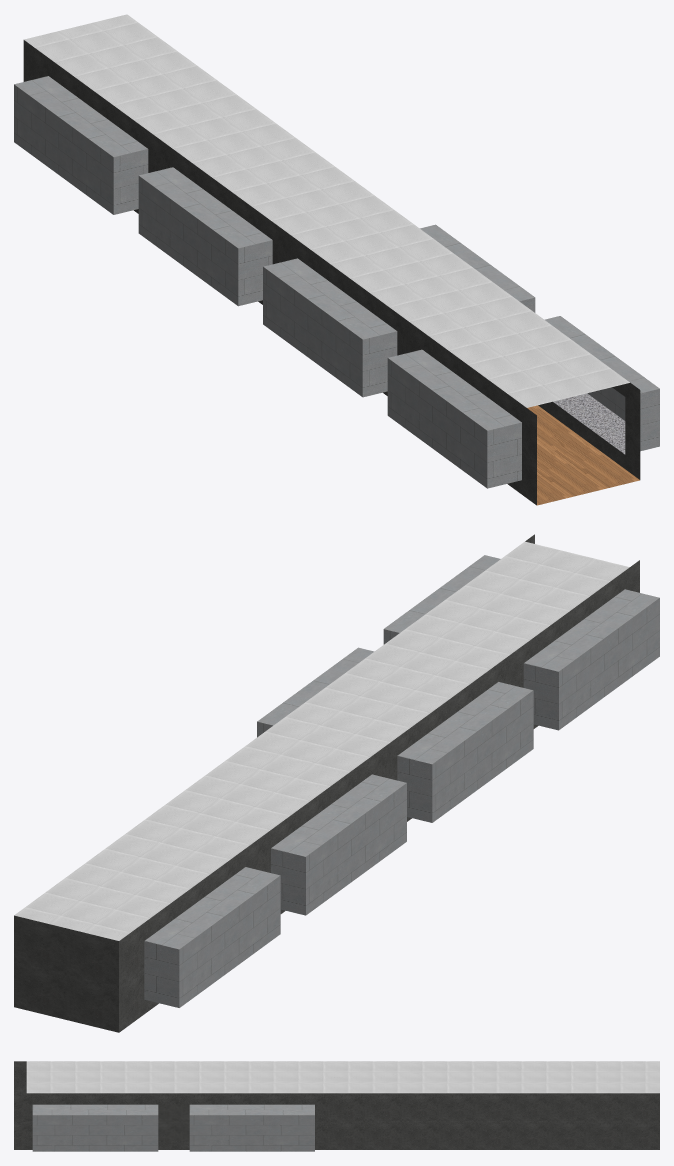
Rendered from aileL23.gltf.
3 renders of one model, top to bottom at view 1: azimuth 30°, elevation 25°; view 2: azimuth 150°, elevation 25°; view 3: azimuth 270°, elevation 25°, orthographic. The views are drawn at different scales.
Visible parts, largest first — view 1: Toit, Renfocements, Murs, Sol; view 2: Toit, Renfocements, Murs; view 3: Murs, Toit, Renfocements.
Boxes of the visible parts, left/top/right/bottom form: Toit: left=24, top=14, right=629, bottom=407; Renfocements: left=14, top=76, right=659, bottom=488; Murs: left=23, top=40, right=640, bottom=505; Sol: left=527, top=405, right=639, bottom=505; Toit: left=14, top=541, right=629, bottom=940; Renfocements: left=144, top=555, right=659, bottom=1007; Murs: left=14, top=534, right=639, bottom=1032; Murs: left=14, top=1061, right=659, bottom=1149; Toit: left=26, top=1061, right=659, bottom=1093; Renfocements: left=32, top=1104, right=314, bottom=1151.
Size of the model in its own units: 10 by 5 by 51.5.
Materials: 5 (5 with a texture image).
